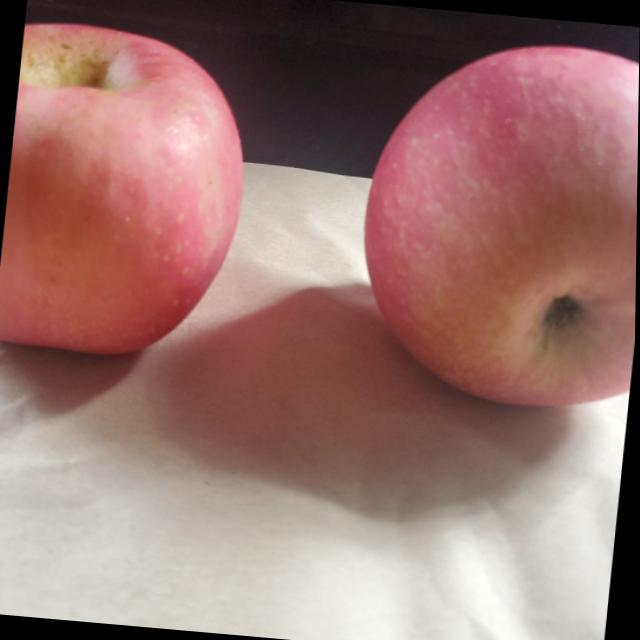apple: (350, 24, 640, 416), (0, 22, 258, 370)
